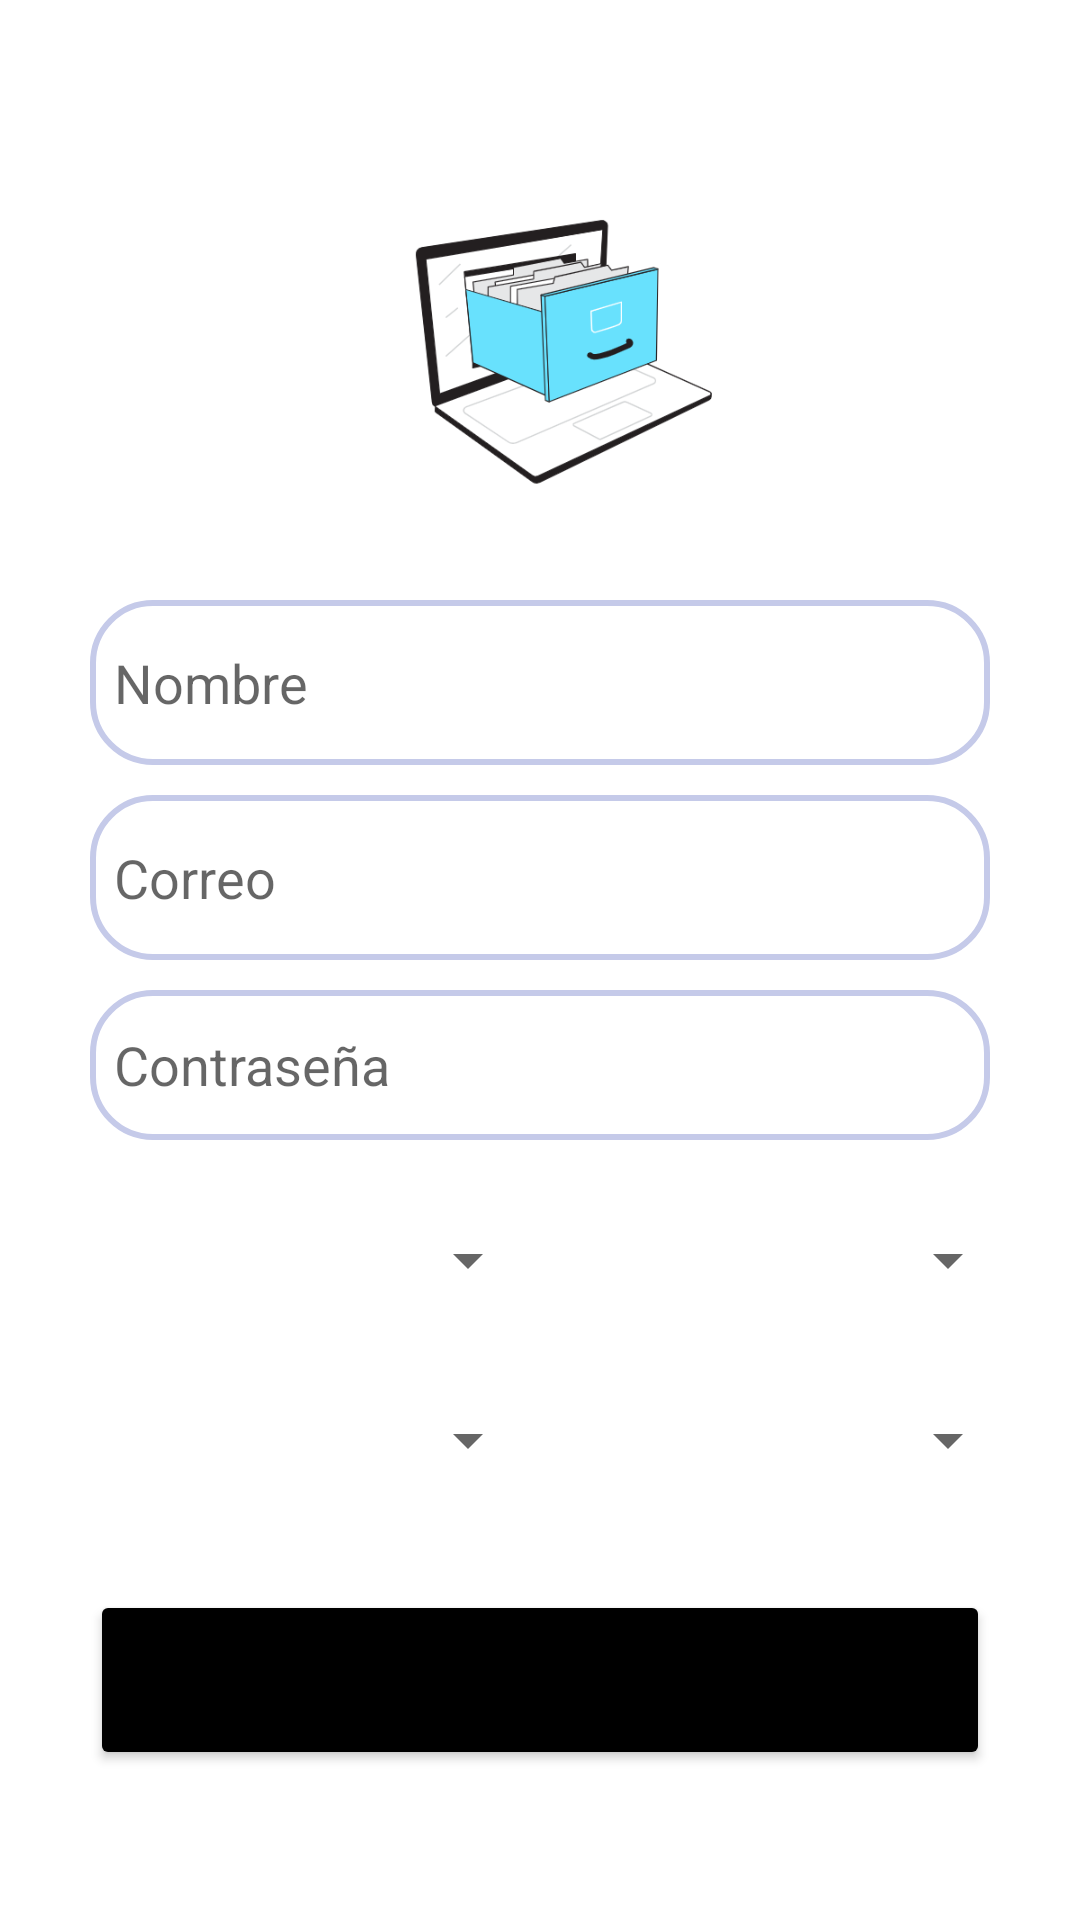

Locate icon controls on the screen. Image size 1080 x 1920, boxes as box(x1, y1, x2, y2).
registroimg: box(415, 220, 712, 484)
